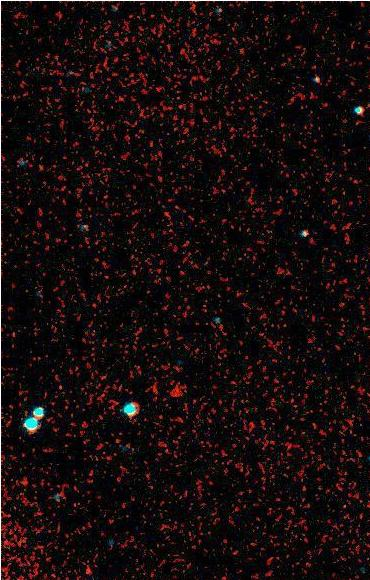star: (72, 556, 102, 580)
